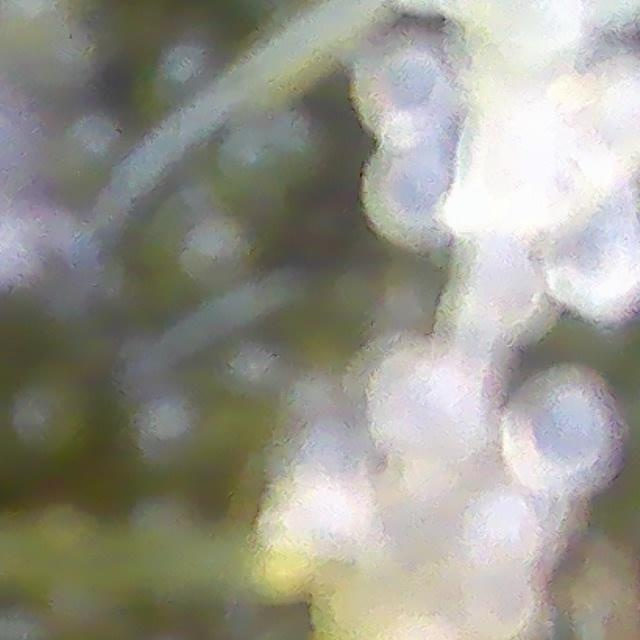SeaGrape: (506, 376, 622, 493), (457, 0, 580, 105), (370, 356, 483, 464), (351, 40, 468, 143), (545, 208, 640, 329), (362, 139, 453, 234), (575, 61, 640, 174), (467, 253, 552, 337), (463, 496, 542, 567), (463, 564, 535, 640)
